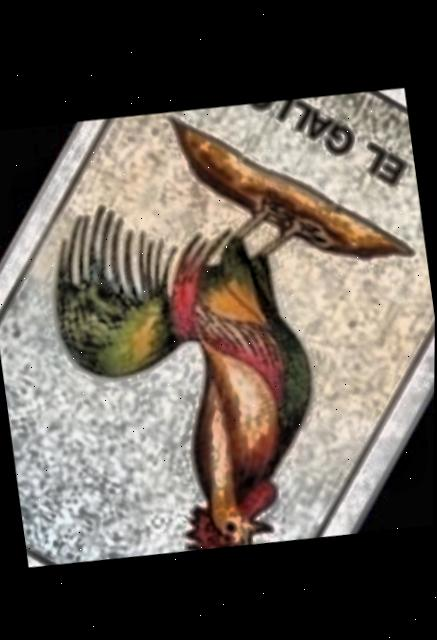El Gallo: (0, 90, 435, 564)
